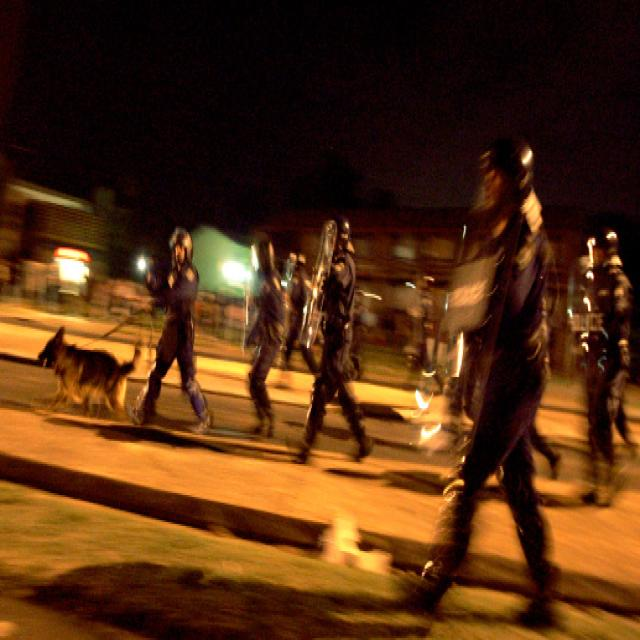Dog: (25, 296, 154, 470)
